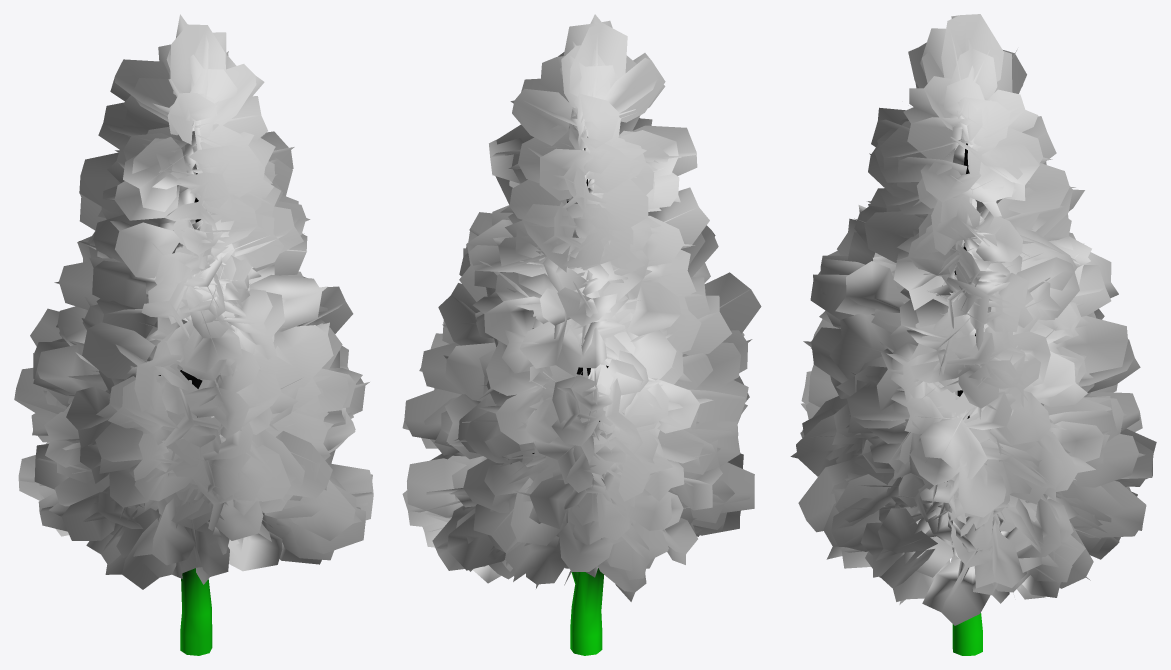
File: SM_FirTree1.FBX
3 renders of one model, left to right at view 1: azimuth 30°, elevation 25°; view 2: azimuth 150°, elevation 25°; view 3: azimuth 270°, elevation 25°, orthographic.
Parts seen in each view (by area): view 1: SM_FirTree1; view 2: SM_FirTree1; view 3: SM_FirTree1.
Part boxes in pixels (x1,y1,x2,y2): SM_FirTree1: [14, 14, 373, 655]; SM_FirTree1: [402, 14, 761, 655]; SM_FirTree1: [790, 14, 1156, 655].
Bounding box in the file's own units: 1072 × 1089 × 2068.
